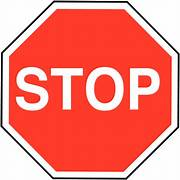stop: (1, 3, 179, 180)
